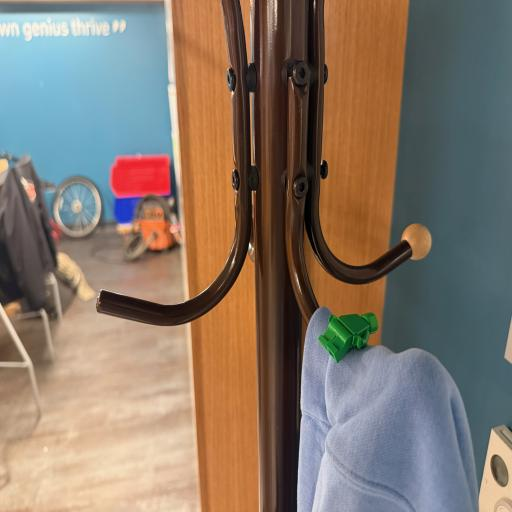Lego-Dude: (318, 312, 378, 363)
